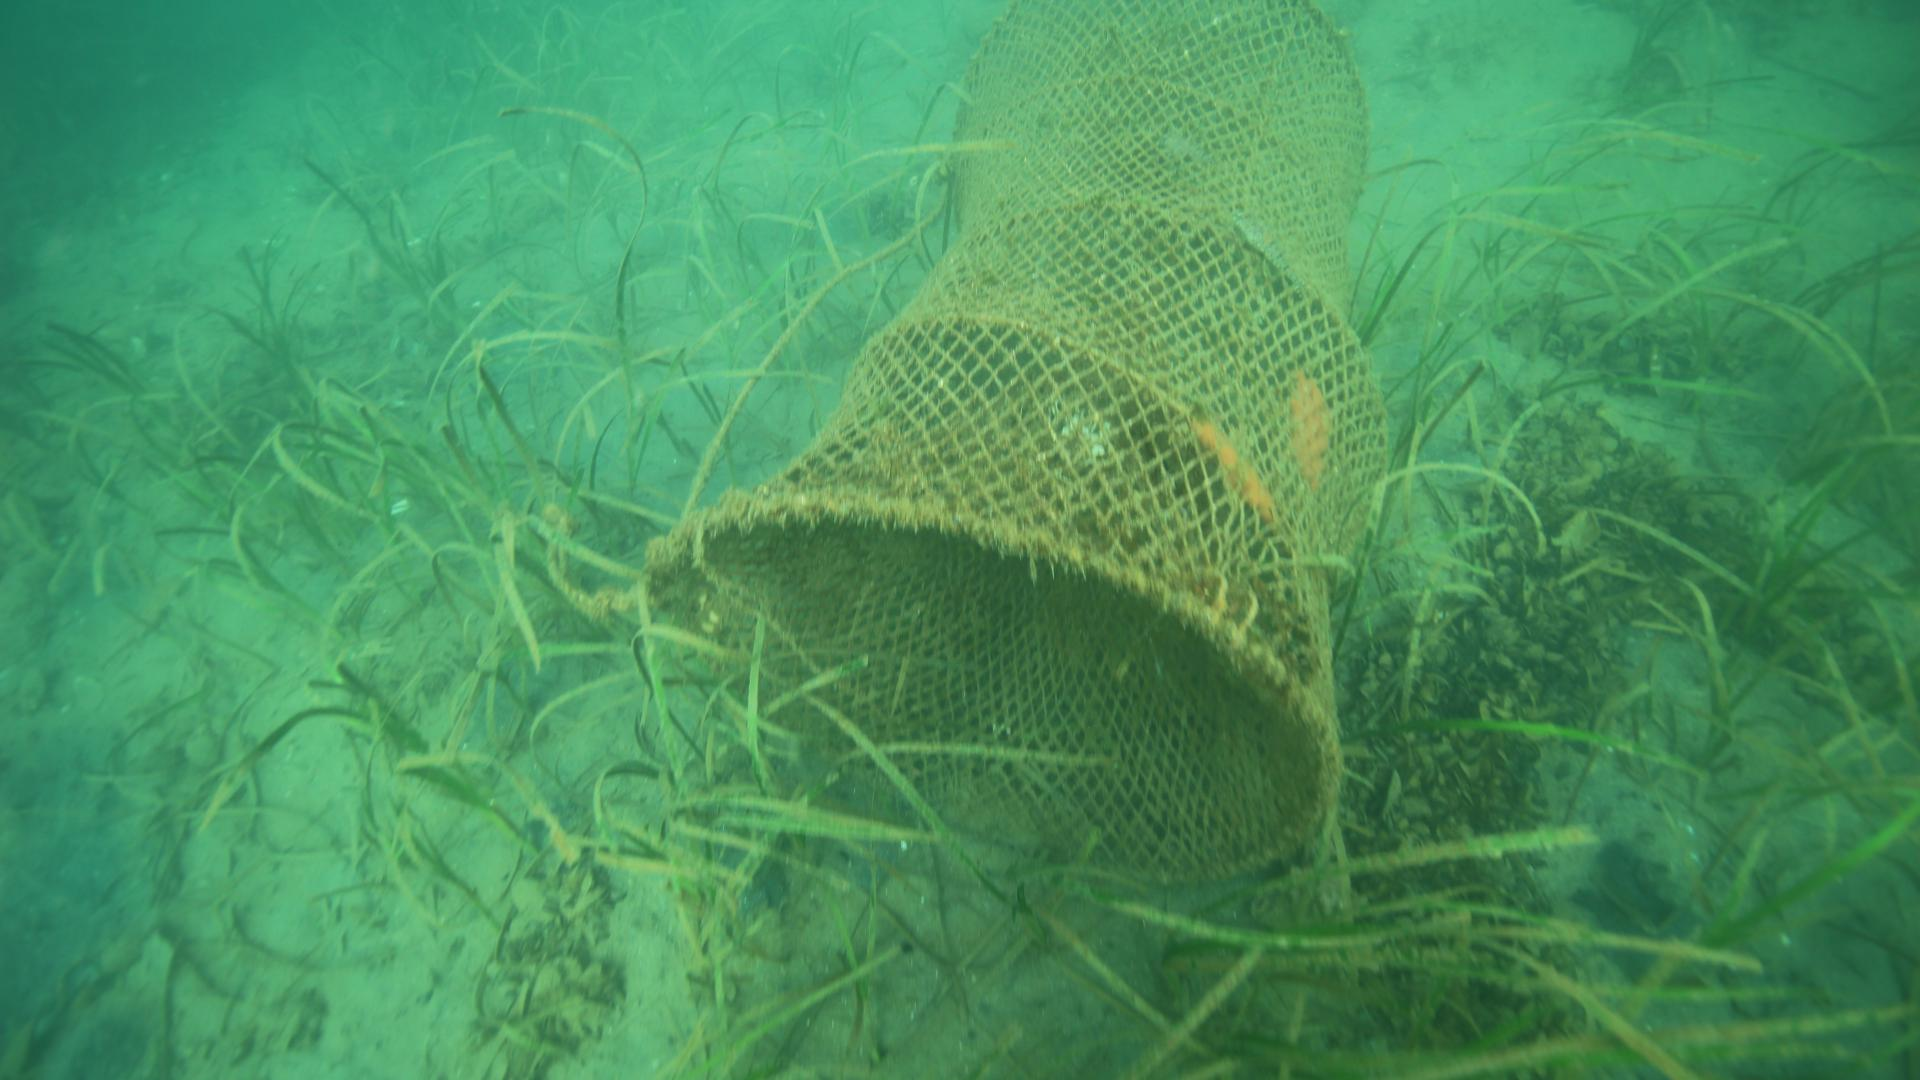spring fish trap: (655, 5, 1366, 913)
